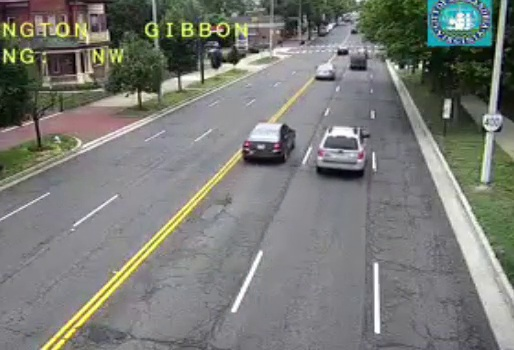car: (315, 126, 366, 173), (242, 123, 297, 158), (315, 64, 335, 79)
